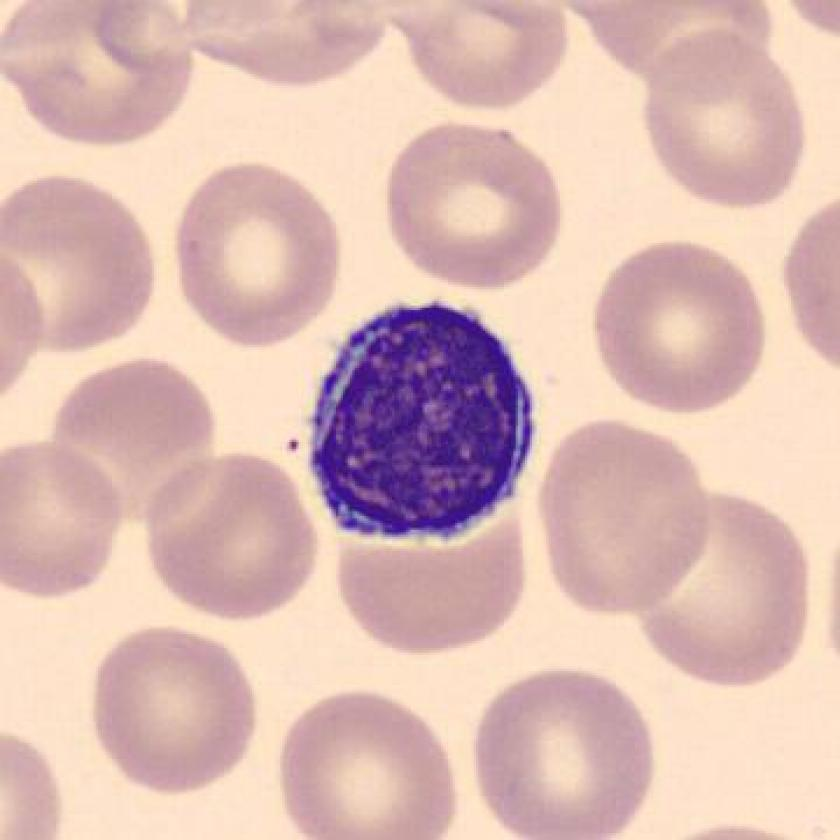lymphocyte: (295, 291, 552, 564)
